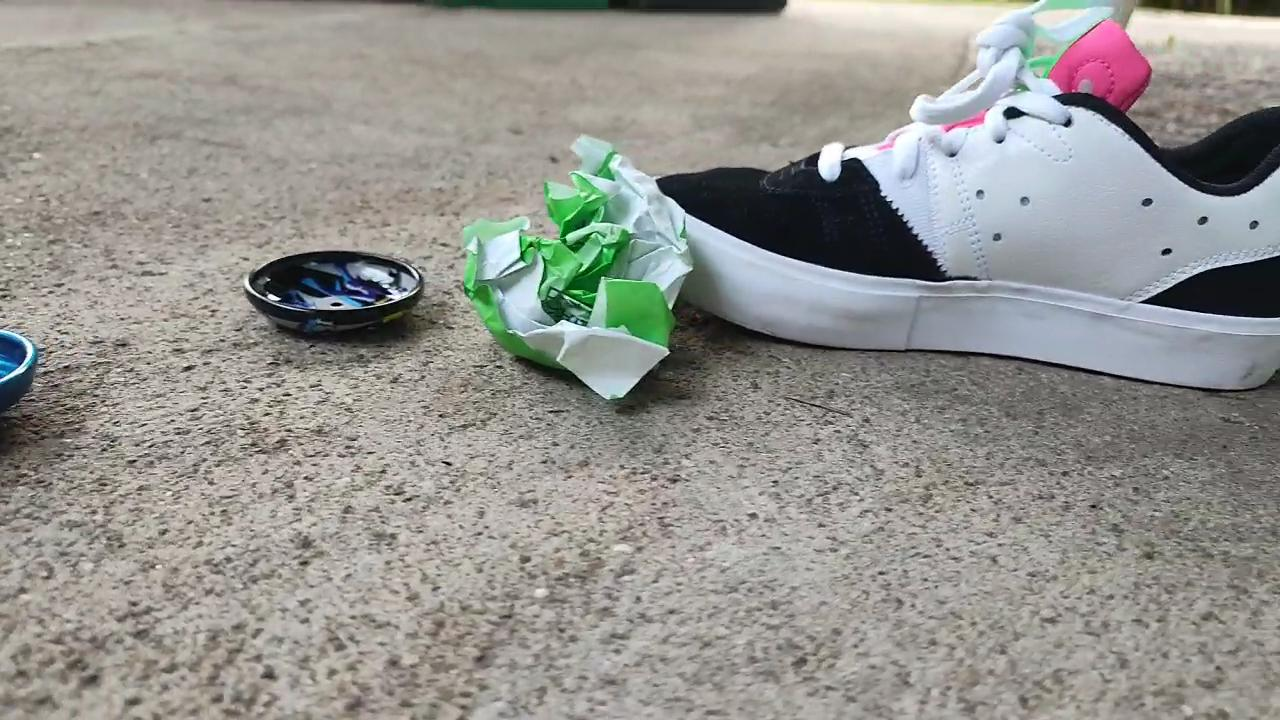Paper: (449, 120, 702, 404)
